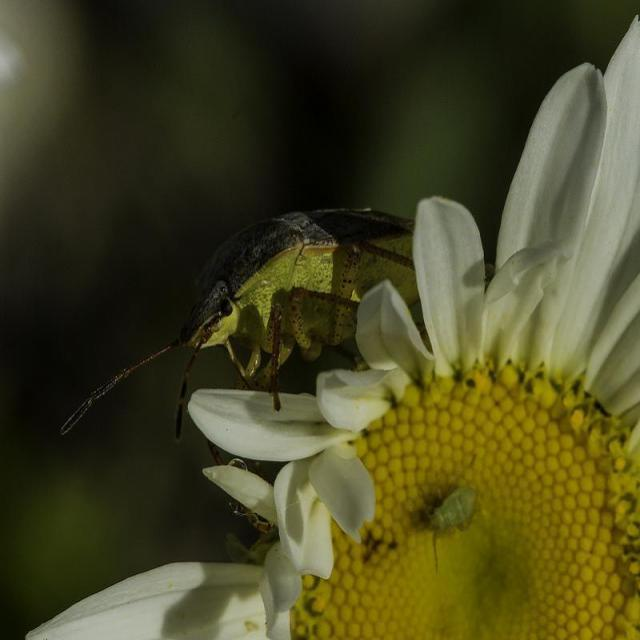aphid: (146, 194, 406, 380)
